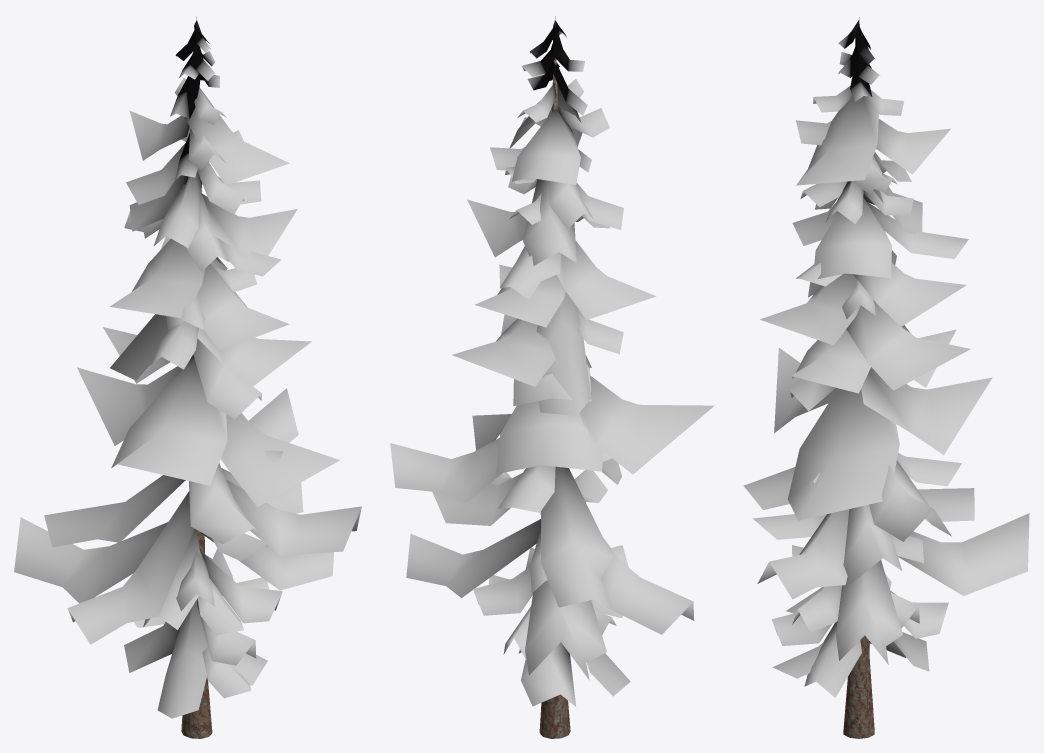
The model's file is Fol_SpruceD.FBX.
3 renders of one model, left to right at view 1: azimuth 30°, elevation 25°; view 2: azimuth 150°, elevation 25°; view 3: azimuth 270°, elevation 25°, orthographic.
Visible parts, largest first — view 1: Spruce4_Needles, Spruce4_Trunk; view 2: Spruce4_Needles, Spruce4_Trunk; view 3: Spruce4_Needles, Spruce4_Trunk.
Part boxes in pixels (bbox=[...]): Spruce4_Needles: bbox=[14, 20, 361, 718]; Spruce4_Trunk: bbox=[181, 16, 212, 738]; Spruce4_Needles: bbox=[390, 20, 714, 706]; Spruce4_Trunk: bbox=[539, 16, 570, 738]; Spruce4_Needles: bbox=[743, 20, 1029, 697]; Spruce4_Trunk: bbox=[843, 17, 874, 738].
Size of the model in its own units: 500 by 1246 by 450.
